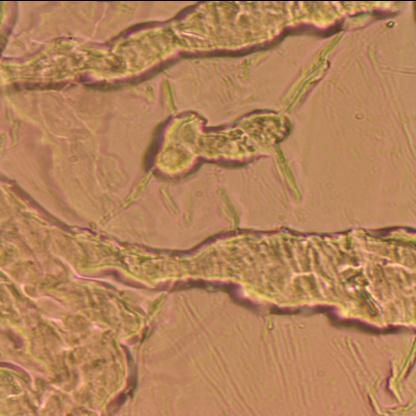Normal: (0, 220, 416, 342), (0, 170, 190, 416), (0, 7, 416, 83)
